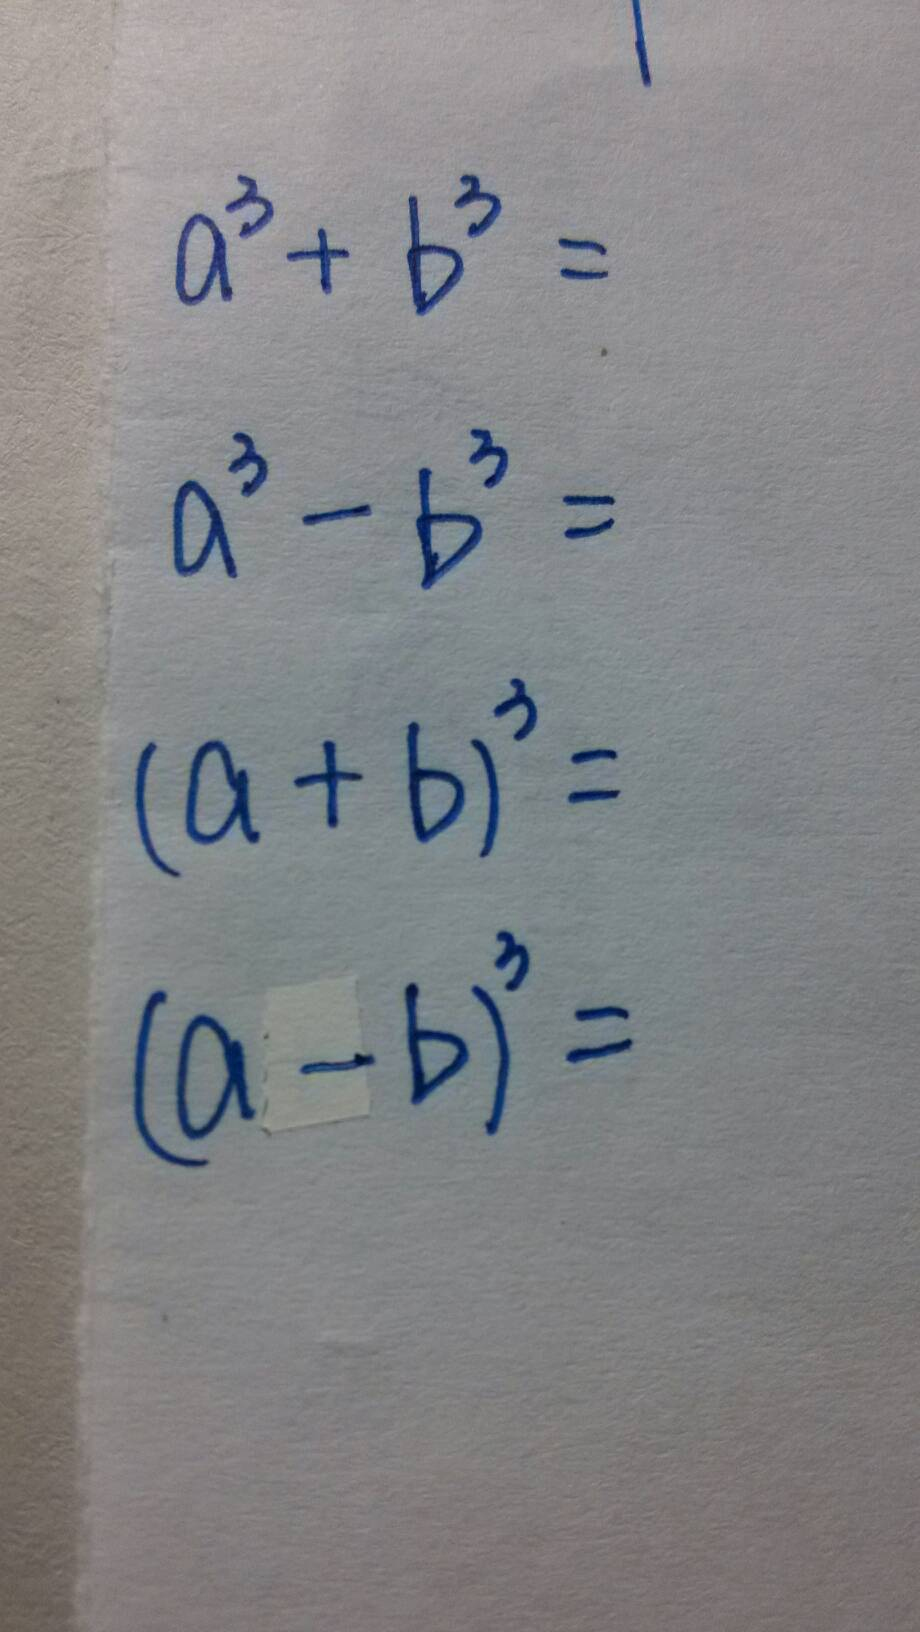cube: (448, 169, 513, 242), (223, 174, 289, 244), (455, 415, 511, 491), (491, 669, 540, 752), (219, 430, 269, 503), (489, 924, 530, 1000)
